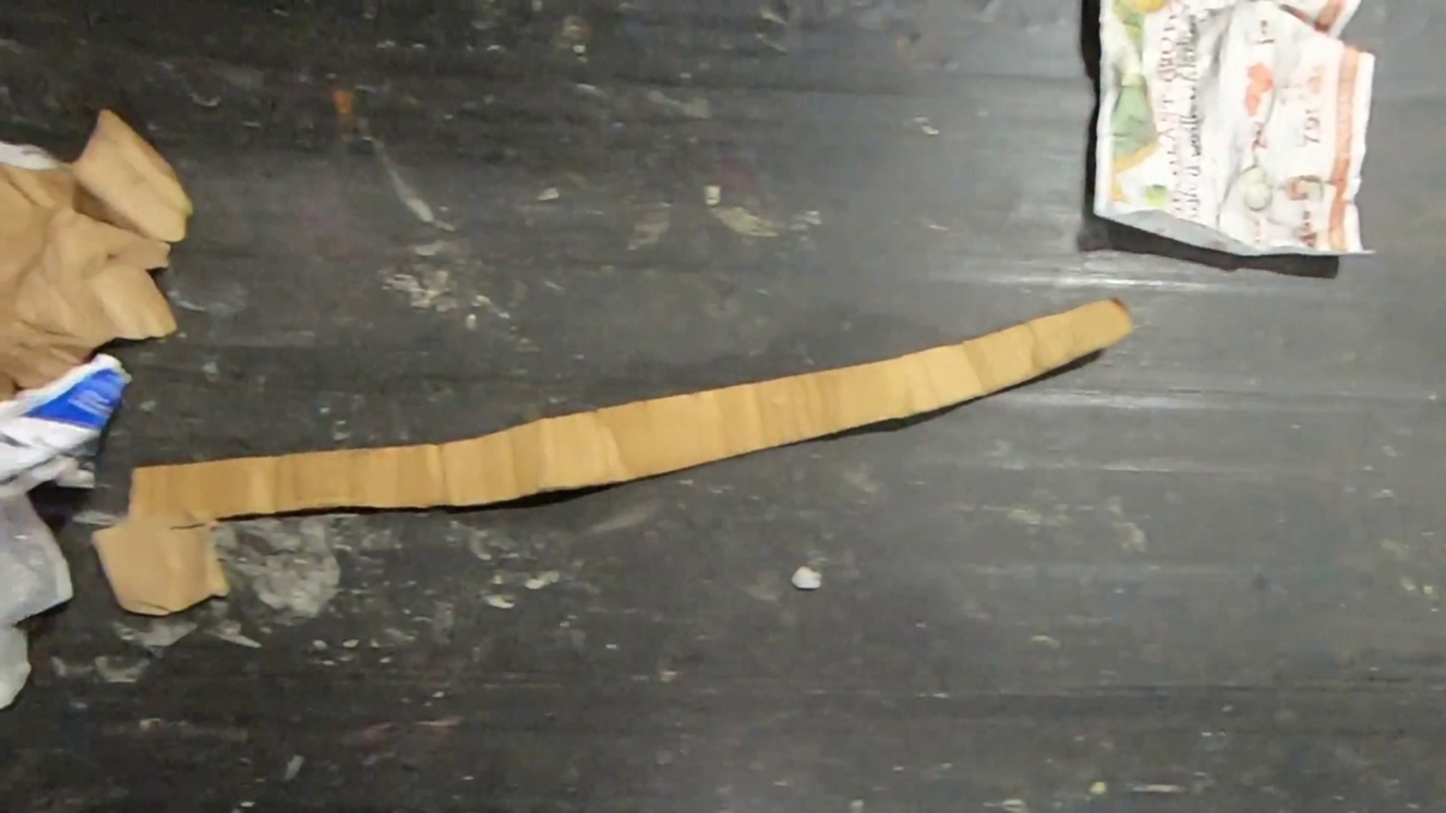cardboard: (86, 295, 1134, 618), (0, 105, 198, 404)
plastic: (0, 493, 78, 710)
